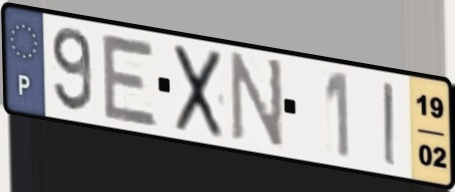1: (320, 67, 352, 162)
9: (49, 25, 94, 114)
E: (98, 29, 161, 131)
I: (380, 78, 400, 170)
N: (228, 50, 285, 155)
X: (172, 41, 225, 142)
